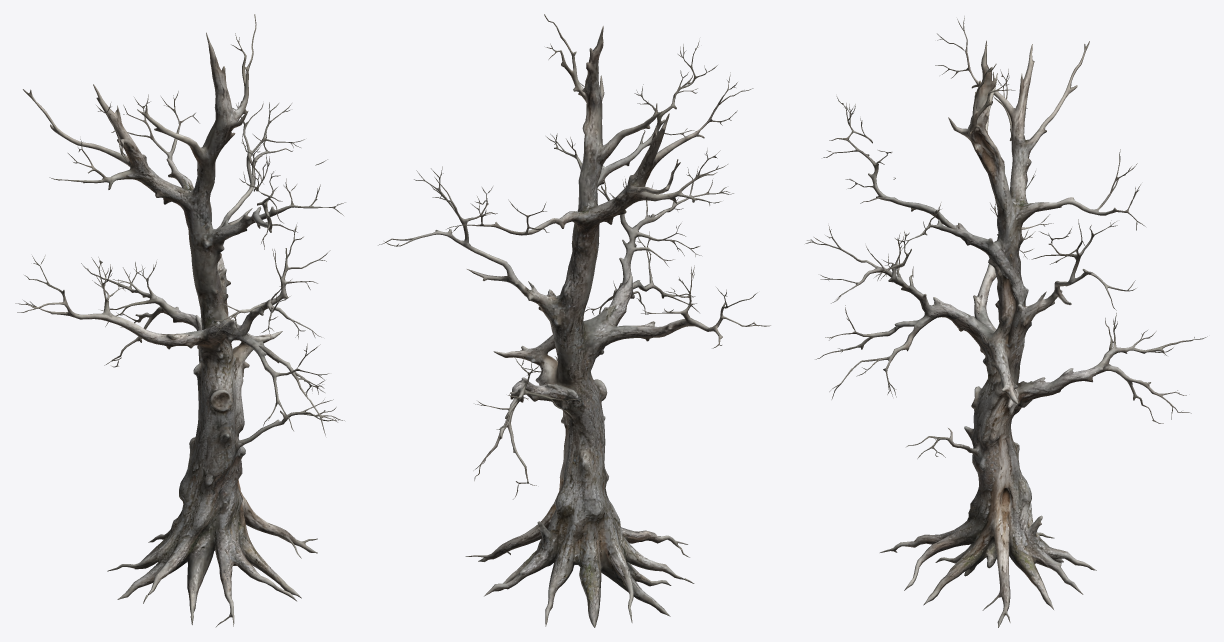
File: dead.glb
3 renders of one model, left to right at view 1: azimuth 30°, elevation 25°; view 2: azimuth 150°, elevation 25°; view 3: azimuth 270°, elevation 25°, orthographic. The views are drawn at different scales.
Parts seen in each view (by area): view 1: tripo_node_1313c713-21a3-46bd-b519-cbdb82605d7b; view 2: tripo_node_1313c713-21a3-46bd-b519-cbdb82605d7b; view 3: tripo_node_1313c713-21a3-46bd-b519-cbdb82605d7b.
Part boxes in pixels (<box>): tripo_node_1313c713-21a3-46bd-b519-cbdb82605d7b: <box>15,14,345,627</box>; tripo_node_1313c713-21a3-46bd-b519-cbdb82605d7b: <box>378,14,770,627</box>; tripo_node_1313c713-21a3-46bd-b519-cbdb82605d7b: <box>805,16,1207,627</box>.
Bounding box in the file's own units: 0.6187 × 0.9995 × 0.6802.
1 material, 1 textured.
